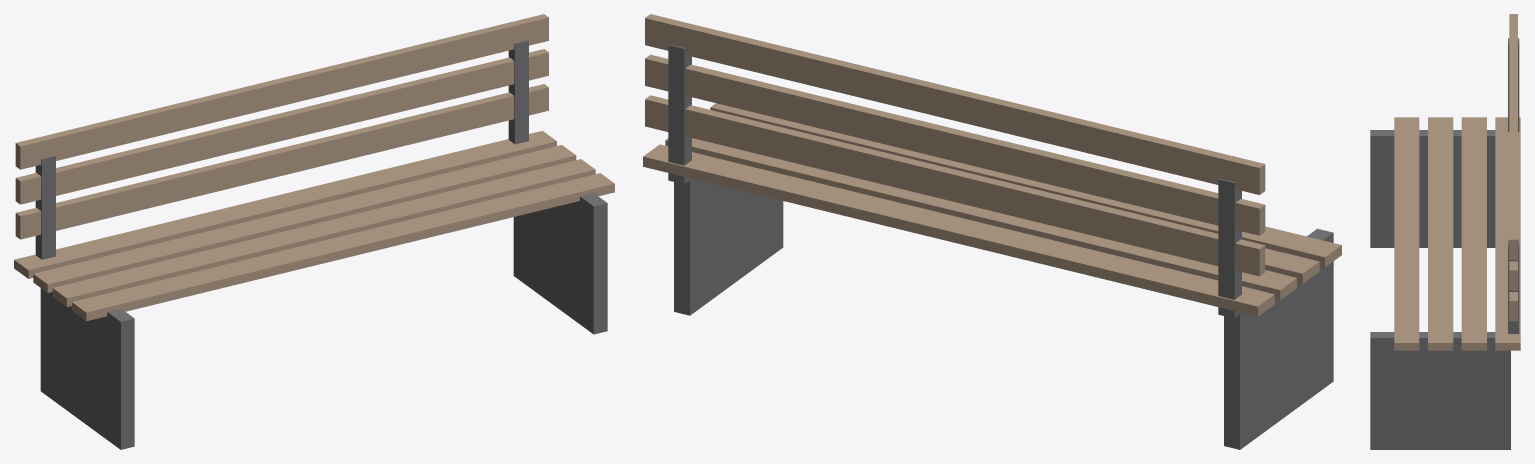
The model's file is bench_park.glb.
The picture shows the model from 3 angles, left to right: view 1: azimuth 30°, elevation 25°; view 2: azimuth 150°, elevation 25°; view 3: azimuth 270°, elevation 25°; orthographic projection. The views are drawn at different scales.
Parts seen in each view (by area): view 1: bench_park, bench_park_iron; view 2: bench_park, bench_park_iron; view 3: bench_park, bench_park_iron.
Part boxes in pixels (left/top/right/bottom): bench_park: left=14, top=14, right=614, bottom=321; bench_park_iron: left=35, top=40, right=607, bottom=449; bench_park: left=643, top=14, right=1341, bottom=316; bench_park_iron: left=668, top=44, right=1333, bottom=449; bench_park: left=1394, top=14, right=1520, bottom=350; bench_park_iron: left=1370, top=38, right=1519, bottom=449.
Bounding box in the file's own units: 1.9 × 0.86 × 0.535.
